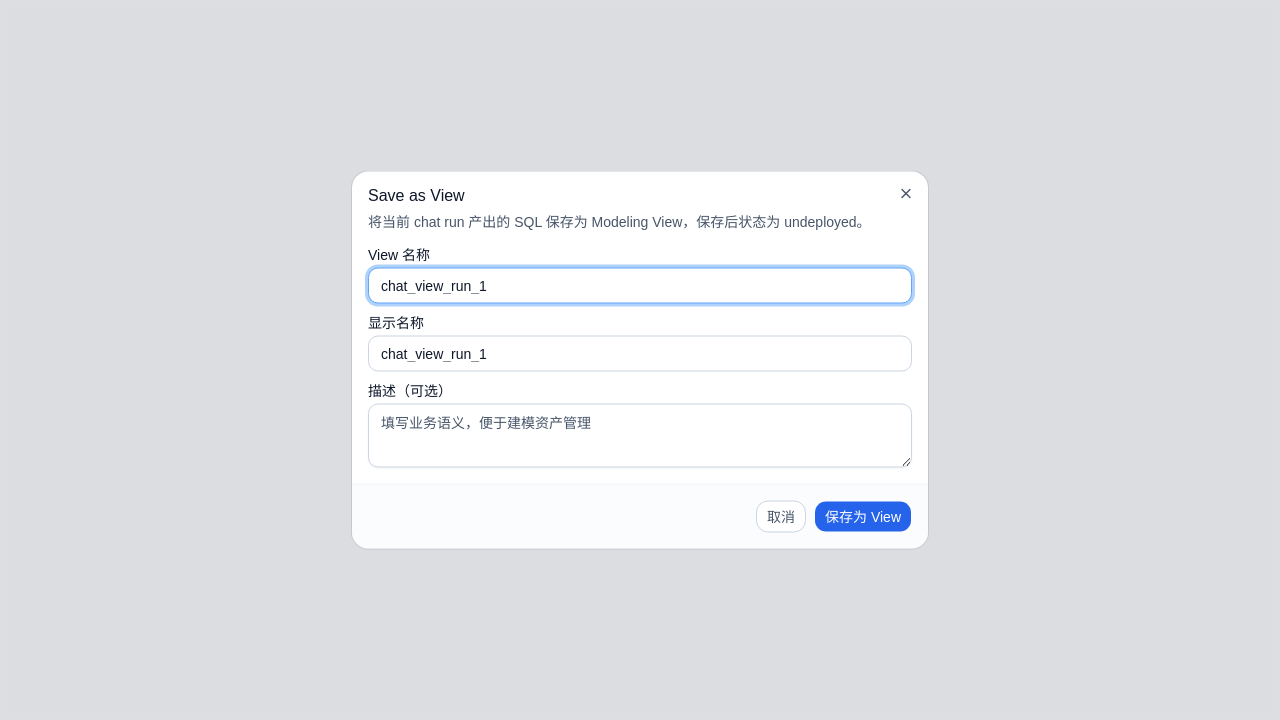
Test: chat save-as-view dialog › submits run view save and surfaces success state
The width and height of the screenshot is (1280, 720).
Replace the text in the field labelled "View 名称" with "orders_recent_10" at (640, 286), box x1=368 y1=268 x2=912 y2=304
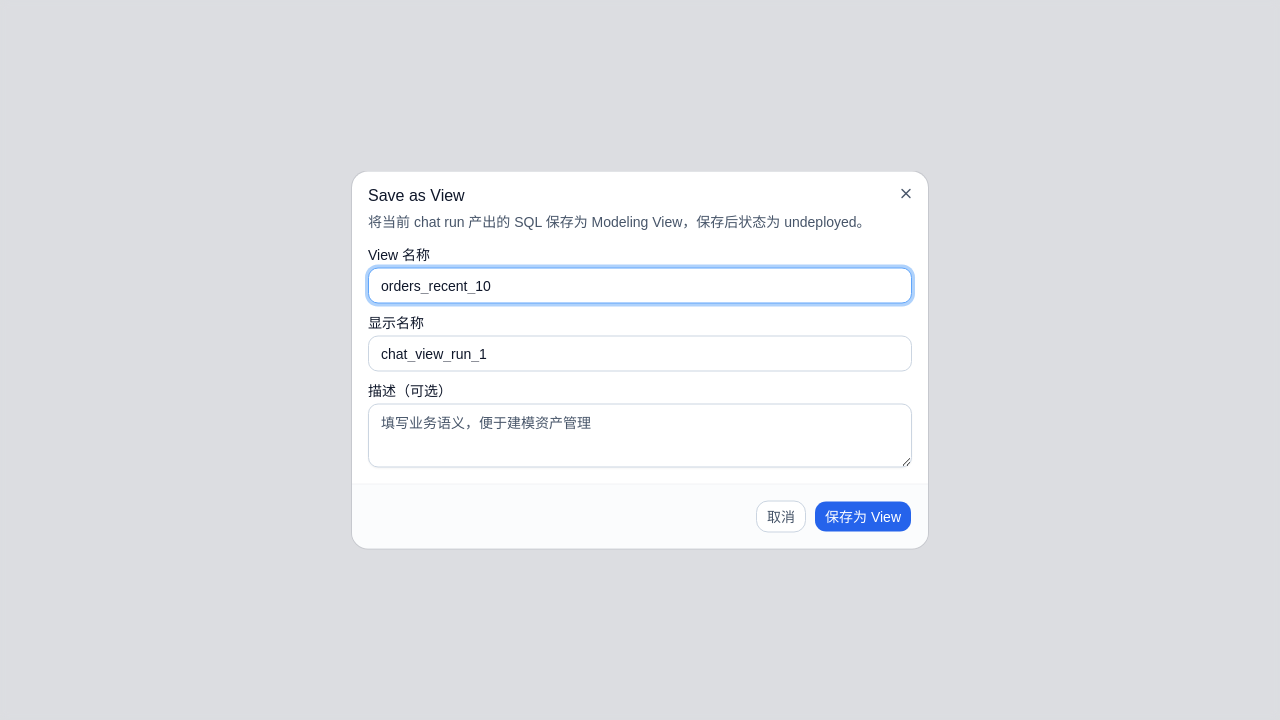
Click the button "保存为 View" at (863, 516), box x1=814 y1=500 x2=912 y2=532
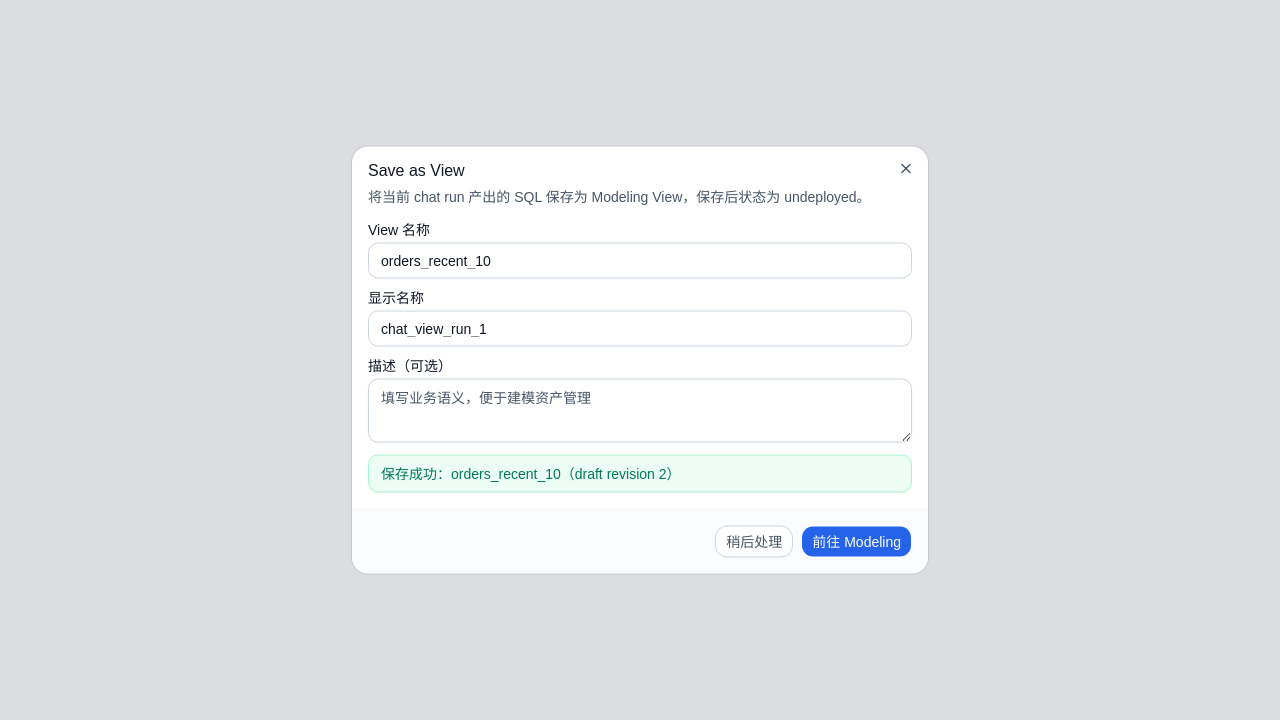
Check: the text "保存成功：orders_recent_10（draft revision 2）" is shown, box x1=368 y1=454 x2=912 y2=492
Check: the button "前往 Modeling" is shown, box x1=801 y1=526 x2=912 y2=558
